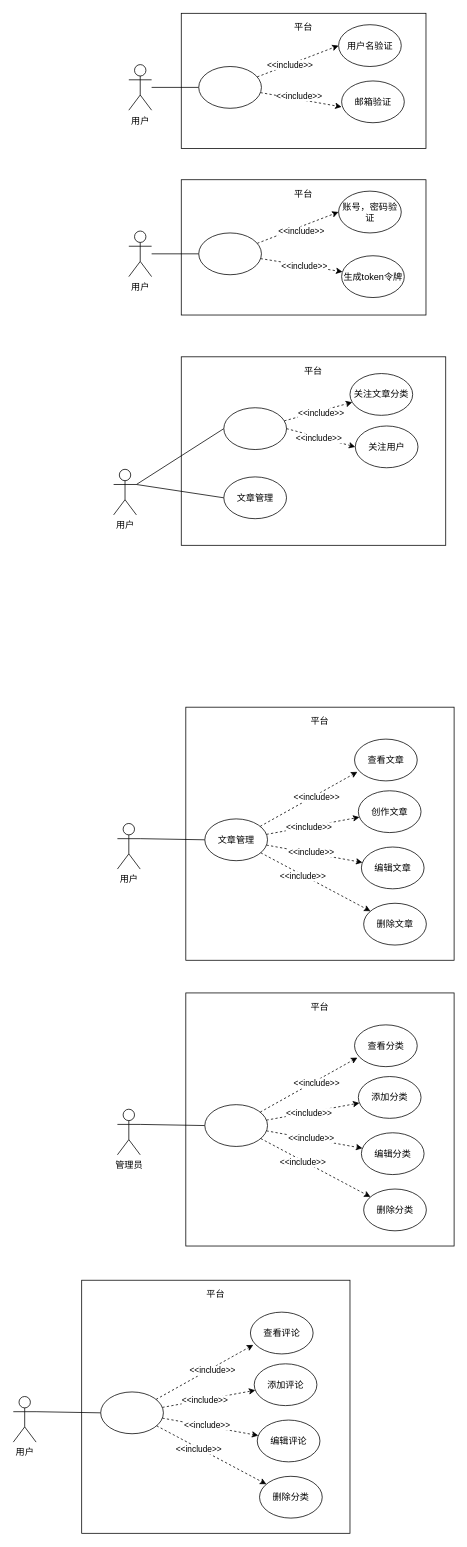
The diagram is 467 pixels wide and 1547 high, and some of its shapes have lost their labels. The shapes that lost their labels are listed below. From the top down, each one's box as (x1, y1, x2, y2) in pixels, then its label:
(198, 66, 261, 108): 注册
(198, 232, 261, 275): 登录
(223, 407, 287, 450): 关注
(204, 1104, 268, 1146): 分类管理
(100, 1391, 163, 1434): 评论管理
